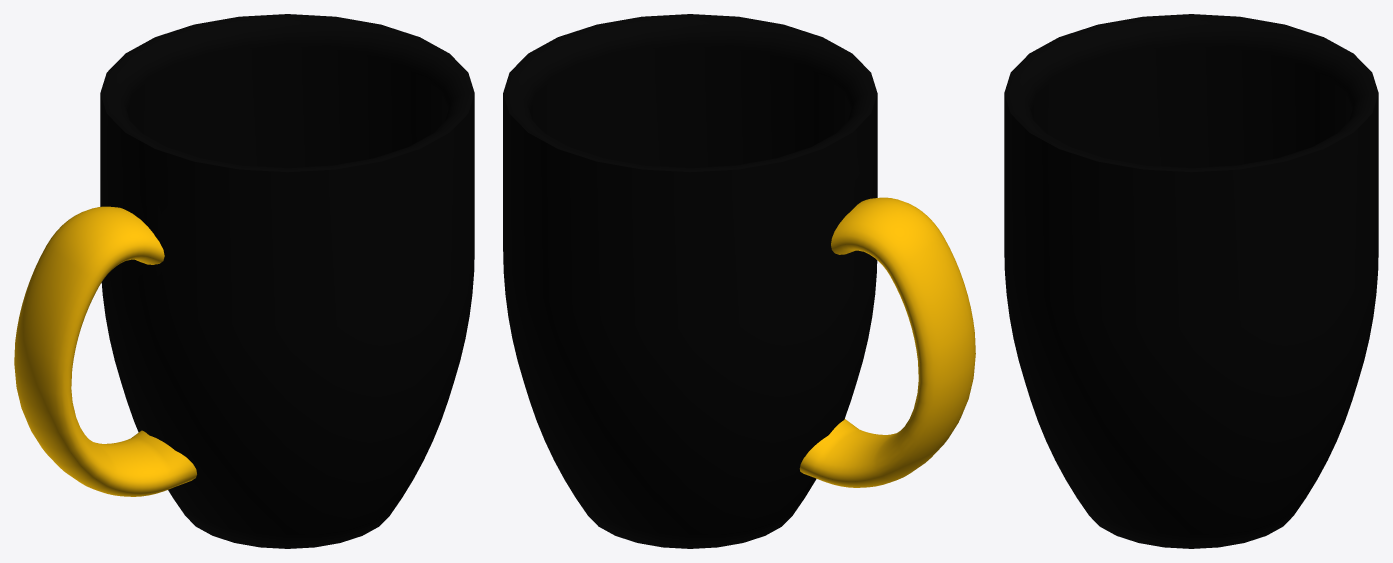
File: mug_17_origin_gt_1.dae
3 renders of one model, left to right at view 1: azimuth 30°, elevation 25°; view 2: azimuth 150°, elevation 25°; view 3: azimuth 270°, elevation 25°, orthographic.
Parts seen in each view (by area): view 1: group_0, group_1; view 2: group_0, group_1; view 3: group_0.
Part boxes in pixels (x1,y1,x2,y2): group_0: [100, 14, 474, 548]; group_1: [14, 206, 196, 496]; group_0: [503, 14, 877, 548]; group_1: [799, 197, 975, 487]; group_0: [1004, 14, 1378, 548].
Bounding box in the file's own units: 4.12 × 3.11 × 3.77.
